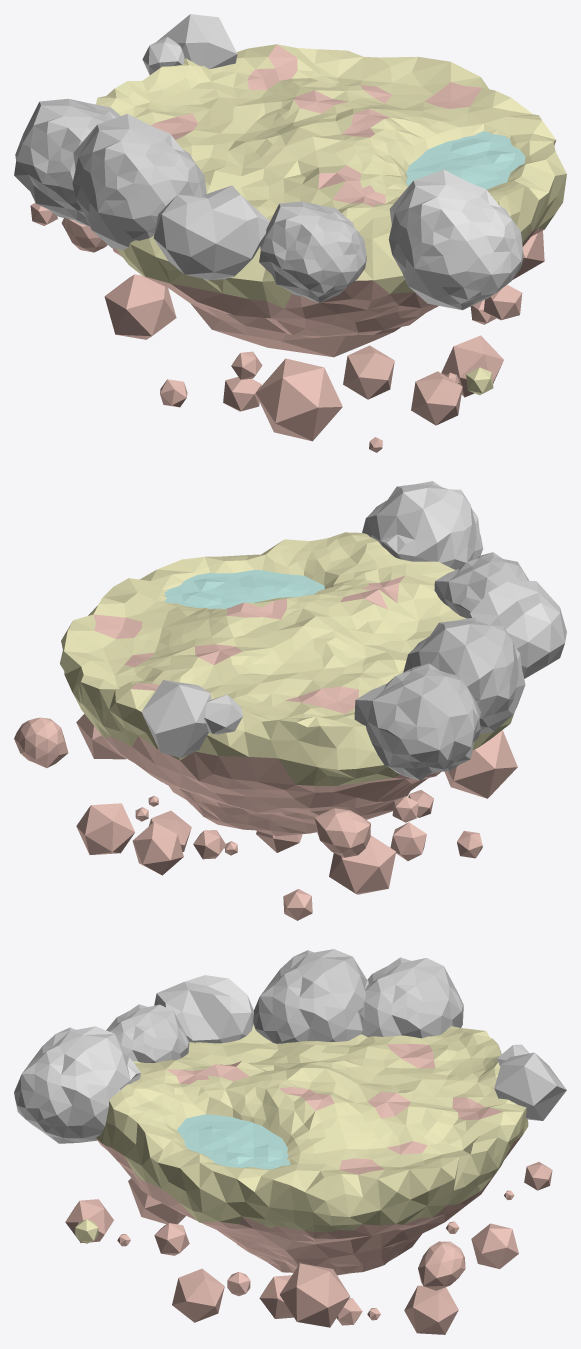
File: playground-big 1.fbx
3 renders of one model, top to bottom at view 1: azimuth 30°, elevation 25°; view 2: azimuth 150°, elevation 25°; view 3: azimuth 270°, elevation 25°, orthographic. The views are drawn at different scales.
Visible parts, largest first — view 1: 平面; view 2: 平面; view 3: 平面.
Part boxes in pixels (<box>): 平面: <box>14,14,566,452</box>; 平面: <box>14,481,566,920</box>; 平面: <box>14,949,566,1334</box>.
Size of the model in its own units: 4385 by 3051 by 5113.
